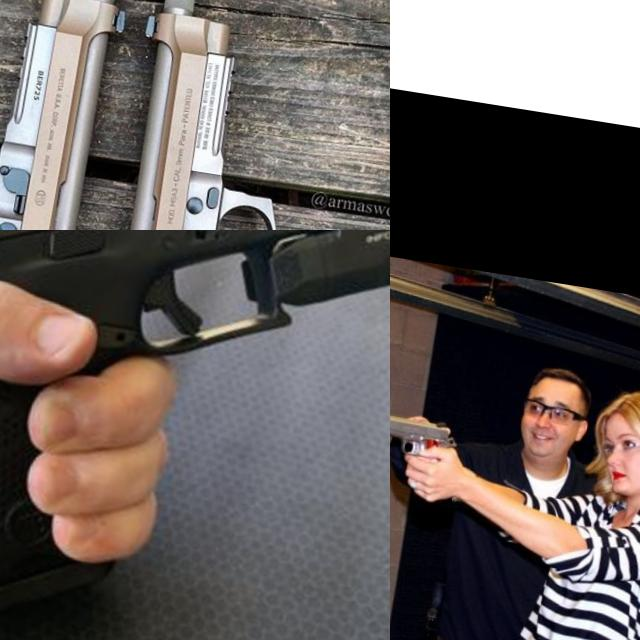handgun: (0, 230, 390, 640), (79, 0, 390, 230), (390, 0, 640, 210), (0, 0, 176, 230), (390, 407, 462, 468)
